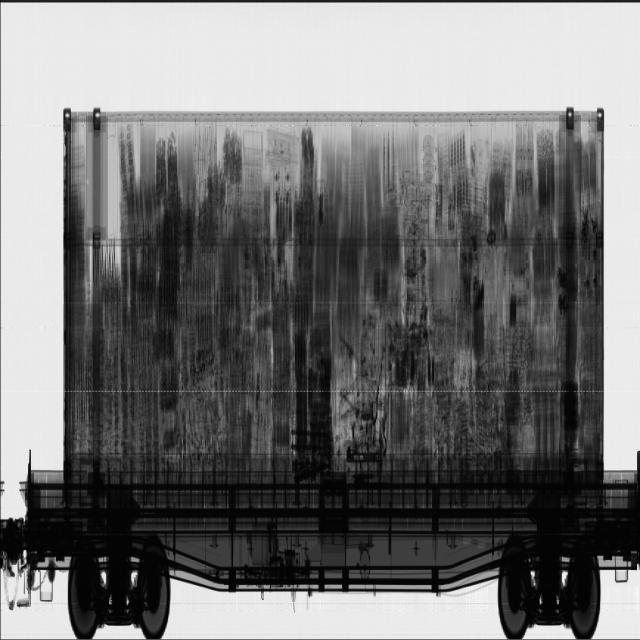auto parts: (290, 328, 335, 472)
car weels: (401, 262, 427, 327)
table ware: (379, 127, 471, 250)
